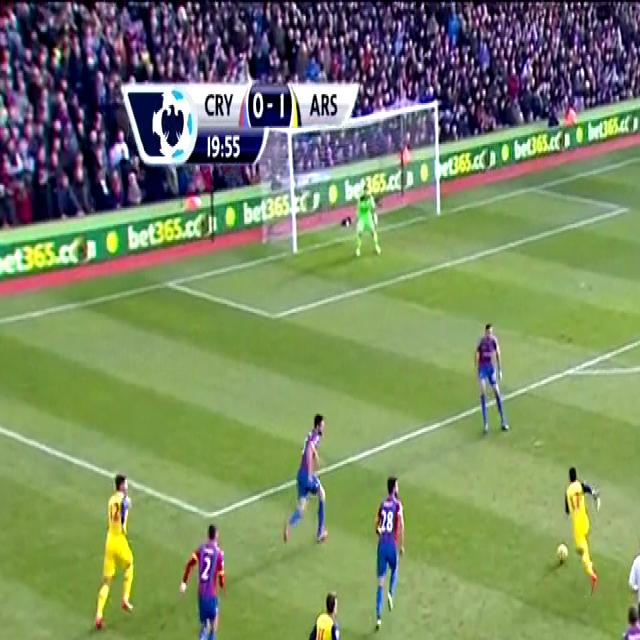ball: (556, 533, 570, 571)
goalkeeper: (347, 183, 387, 264)
referee: (619, 524, 640, 640)
soccer-player: (82, 464, 154, 640), (273, 402, 341, 552), (364, 471, 424, 629), (167, 512, 240, 640), (457, 319, 515, 449), (570, 444, 604, 571), (289, 588, 356, 640), (598, 610, 640, 640)
